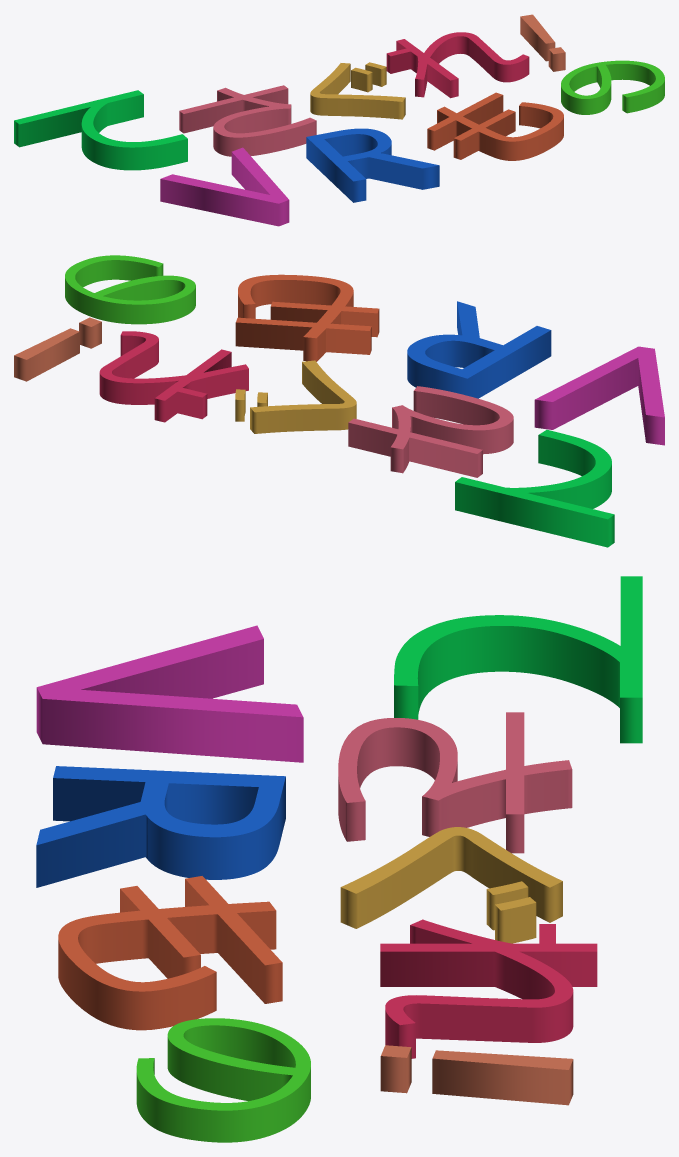
Rendered from Tesagure.fbx.
3 views of the same model, one above another, from view 1: azimuth 30°, elevation 25°; view 2: azimuth 150°, elevation 25°; view 3: azimuth 270°, elevation 25° (orthographic). The views are drawn at different scales.
Visible parts, largest first — view 1: Text, Text.007, Text.001, Text.006, Text.005, Text.003, Text.008, Text.002, Text.004; view 2: Text, Text.007, Text.001, Text.006, Text.003, Text.008, Text.005, Text.002, Text.004; view 3: Text.006, Text.005, Text.007, Text.003, Text, Text.008, Text.001, Text.002, Text.004.
Boxes of the visible parts, x1,y1,x2,y2 form: Text: (14, 90, 187, 170); Text.007: (427, 92, 563, 160); Text.001: (179, 85, 316, 156); Text.006: (306, 128, 439, 202); Text.005: (160, 147, 289, 226); Text.003: (386, 32, 529, 98); Text.008: (561, 60, 664, 114); Text.002: (310, 62, 405, 119); Text.004: (520, 14, 565, 71); Text: (455, 429, 614, 547); Text.007: (235, 274, 379, 361); Text.001: (348, 386, 513, 477); Text.006: (407, 301, 551, 398); Text.003: (99, 331, 248, 422); Text.008: (65, 255, 195, 324); Text.005: (534, 346, 664, 445); Text.002: (235, 360, 356, 433); Text.004: (14, 317, 101, 381); Text.006: (36, 766, 285, 887); Text.005: (36, 625, 303, 762); Text.007: (58, 876, 282, 1030); Text.003: (380, 919, 597, 1058); Text: (394, 576, 642, 743); Text.008: (136, 1018, 310, 1142); Text.001: (338, 712, 572, 853); Text.002: (340, 827, 562, 943); Text.004: (380, 1045, 573, 1105).
Bounding box in the file's own units: 321 × 13 × 156.
